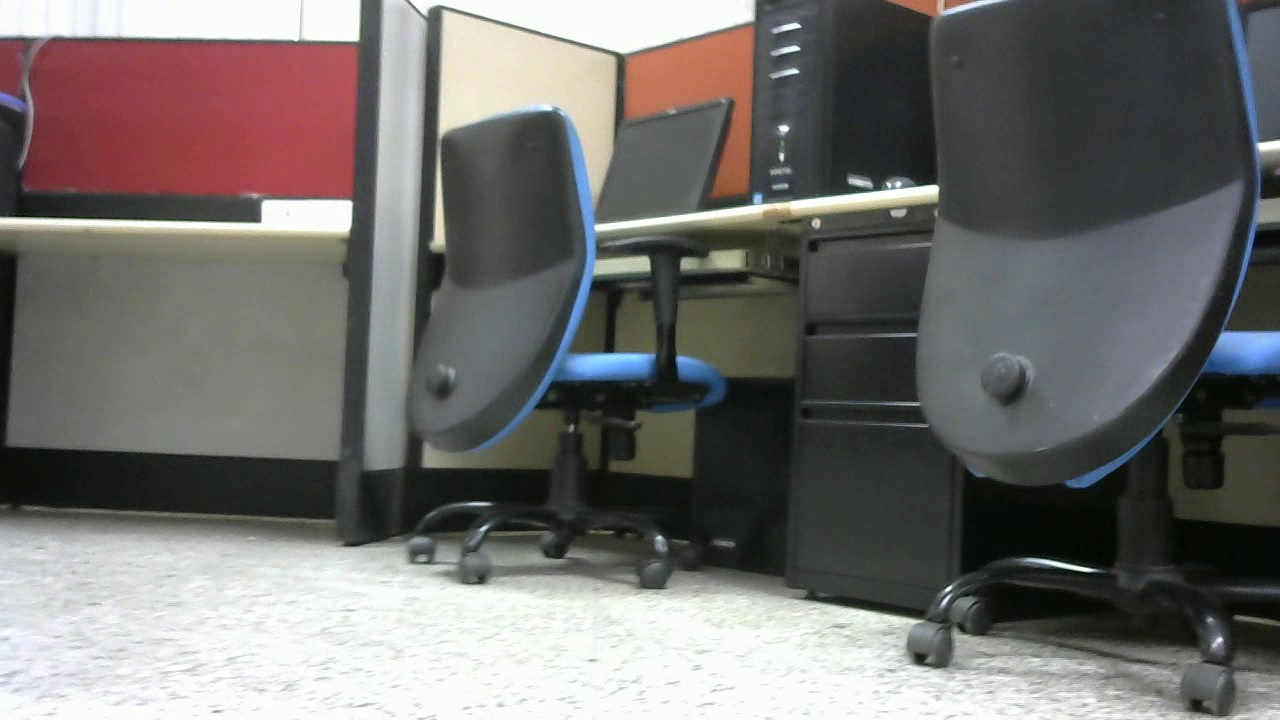chair: (397, 107, 730, 588)
